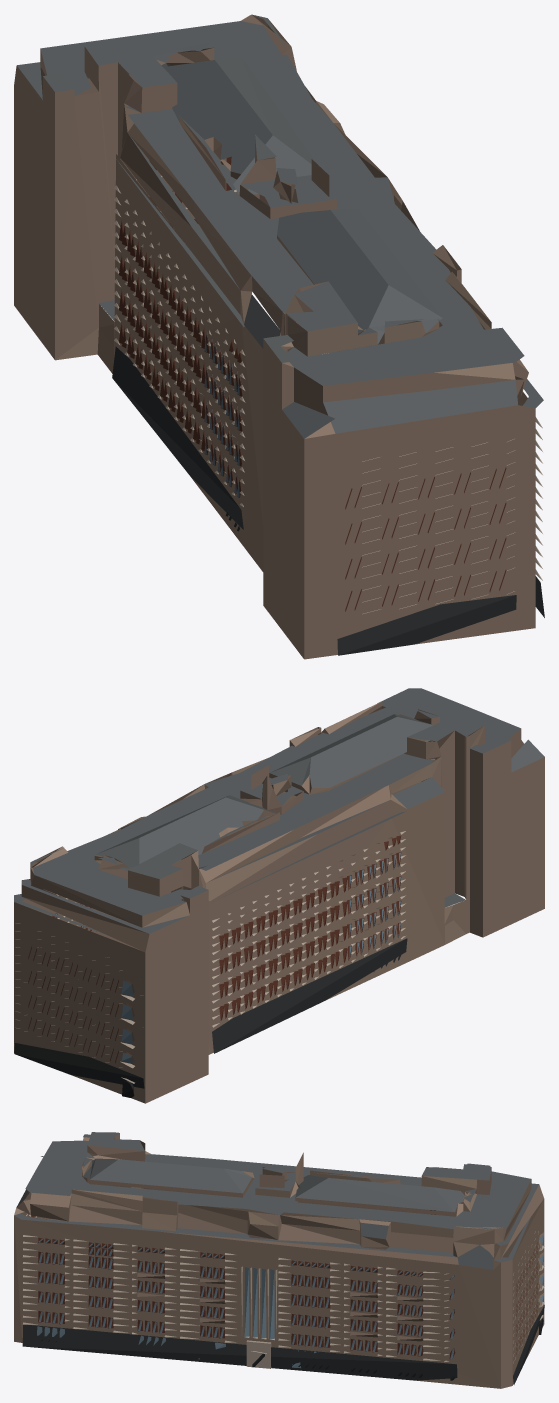
The model's file is de-bazel.lod1.glb.
3 views of the same model, one above another, from view 1: azimuth 30°, elevation 25°; view 2: azimuth 150°, elevation 25°; view 3: azimuth 270°, elevation 25° (orthographic). The views are drawn at different scales.
Parts seen in each view (by area): view 1: de-bazel; view 2: de-bazel; view 3: de-bazel.
Part boxes in pixels (box(x1,y1,x2,y2)): de-bazel: box(14, 14, 544, 659); de-bazel: box(14, 688, 544, 1103); de-bazel: box(14, 1132, 544, 1388).
Size of the model in its own units: 50.04 by 40.51 by 107.
